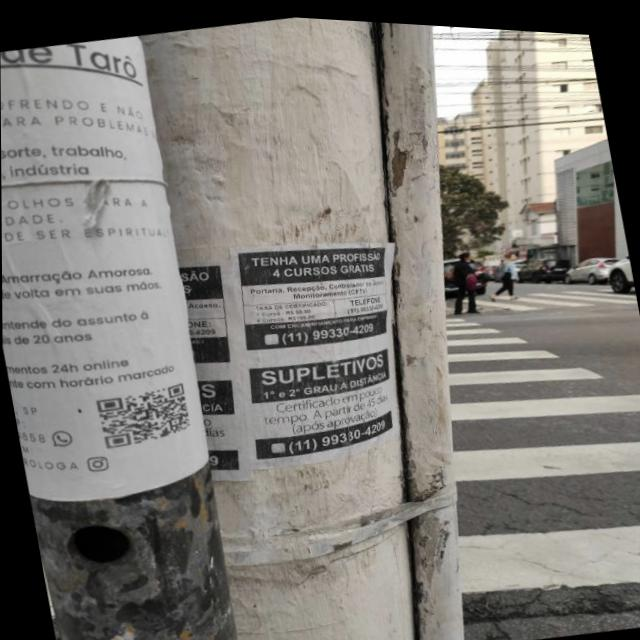qrcode: (96, 378, 192, 451)
